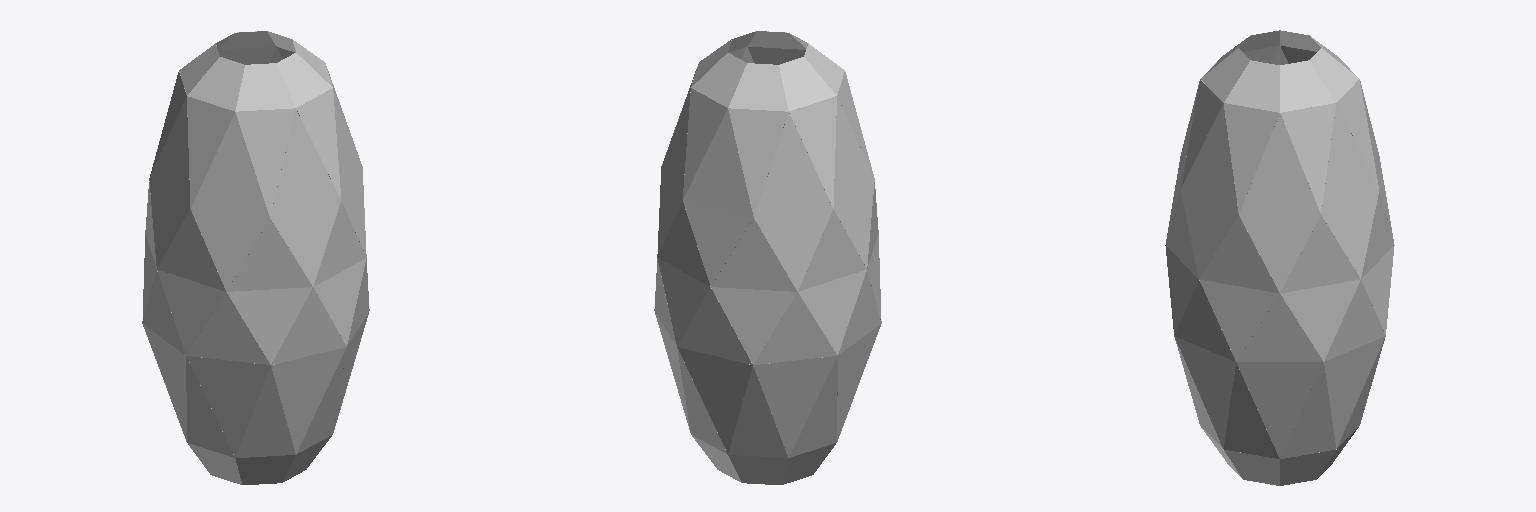
The model's file is SjoepennaFloorLampV2.obj.
3 renders of one model, left to right at view 1: azimuth 30°, elevation 25°; view 2: azimuth 150°, elevation 25°; view 3: azimuth 270°, elevation 25°, orthographic.
Size of the model in its own units: 432 by 865 by 432.